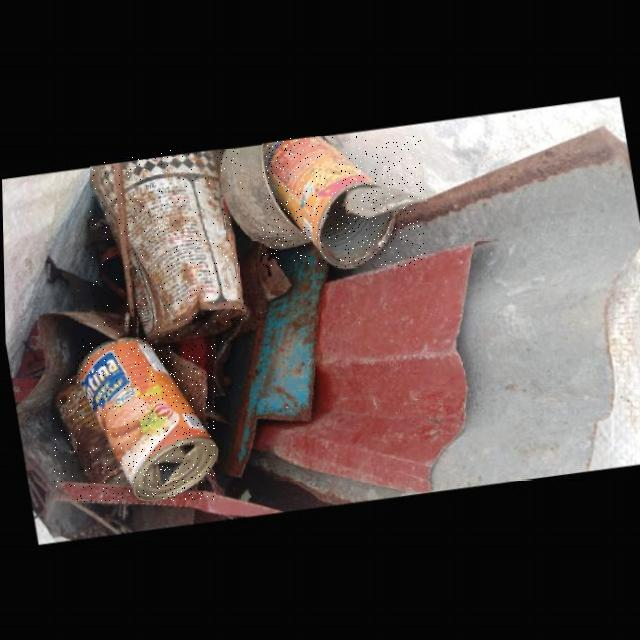metal: (90, 150, 245, 344), (77, 338, 216, 502), (263, 137, 425, 267), (53, 375, 128, 487)
